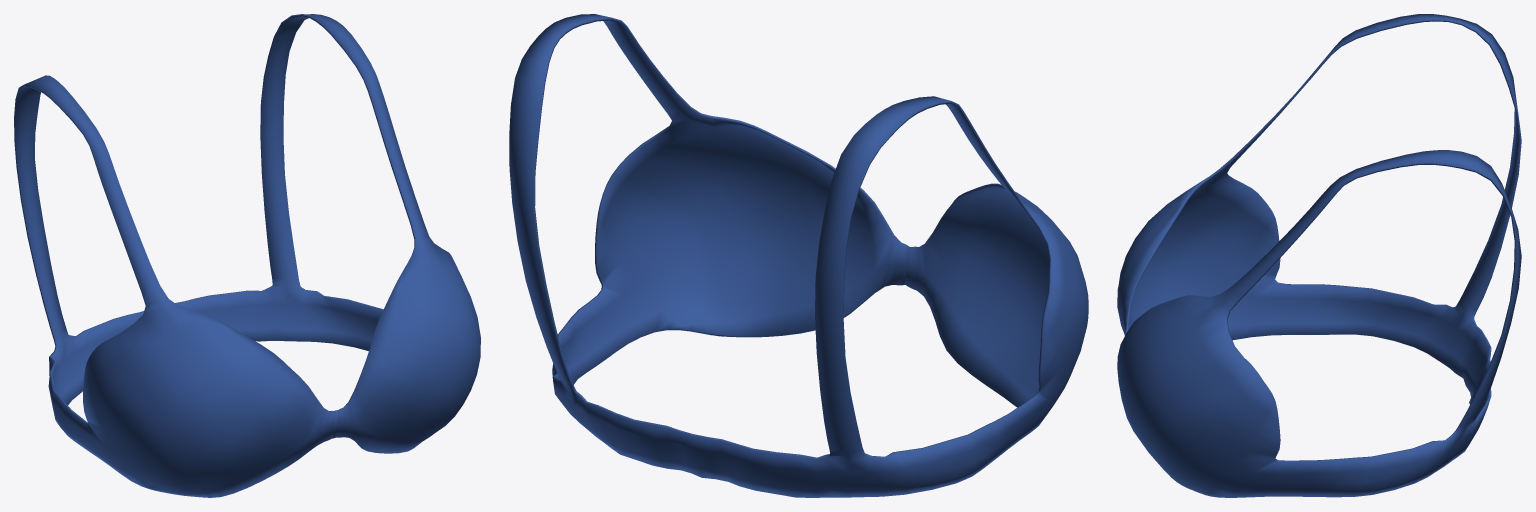
The model's file is Bra_Set_1.fbx.
The picture shows the model from 3 angles, left to right: view 1: azimuth 30°, elevation 25°; view 2: azimuth 150°, elevation 25°; view 3: azimuth 270°, elevation 25°; orthographic projection. The views are drawn at different scales.
Visible parts, largest first — view 1: Bra1; view 2: Bra1; view 3: Bra1.
Boxes of the visible parts, left/top/right/bottom form: Bra1: left=14, top=14, right=480, bottom=497; Bra1: left=509, top=14, right=1088, bottom=497; Bra1: left=1117, top=14, right=1521, bottom=497.
Size of the model in its own units: 20.08 by 17.34 by 18.41.
